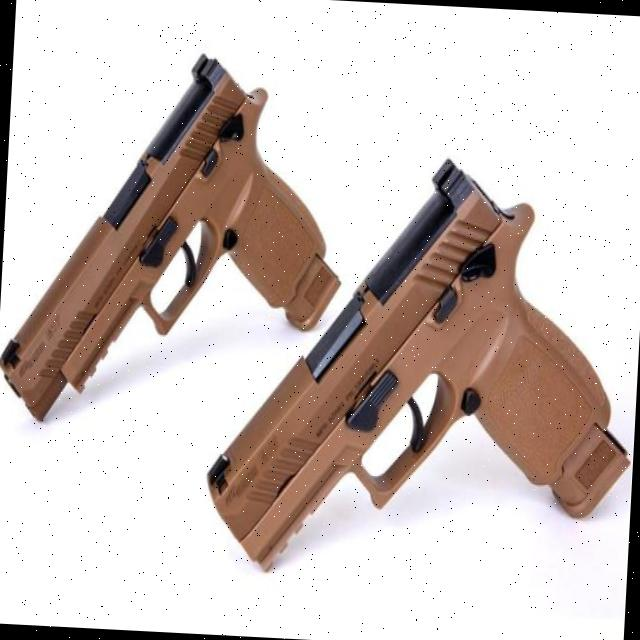Handgun: (214, 123, 640, 594), (22, 64, 343, 438)
